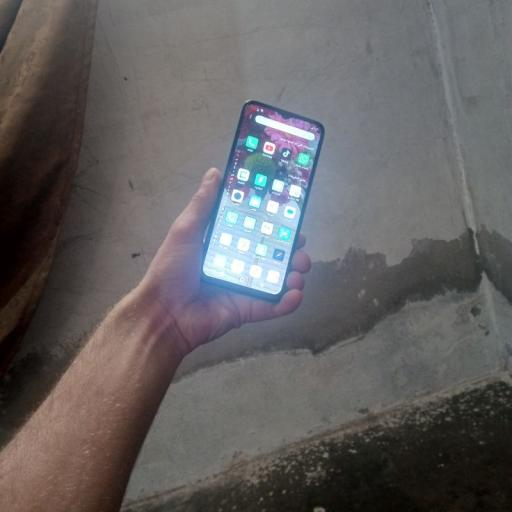people: (202, 101, 324, 300)
